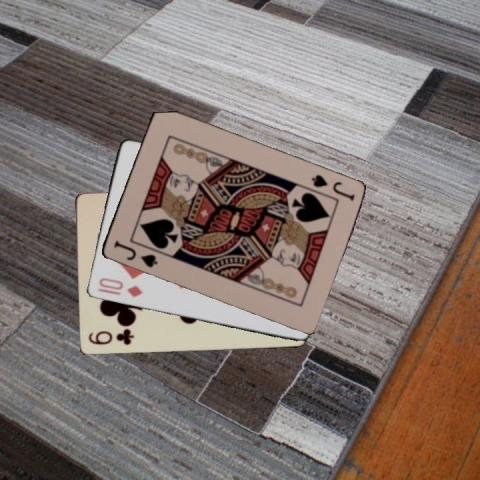10d: (96, 274, 144, 299)
6c: (85, 327, 135, 347)
Js: (110, 237, 159, 270), (308, 171, 356, 203)
